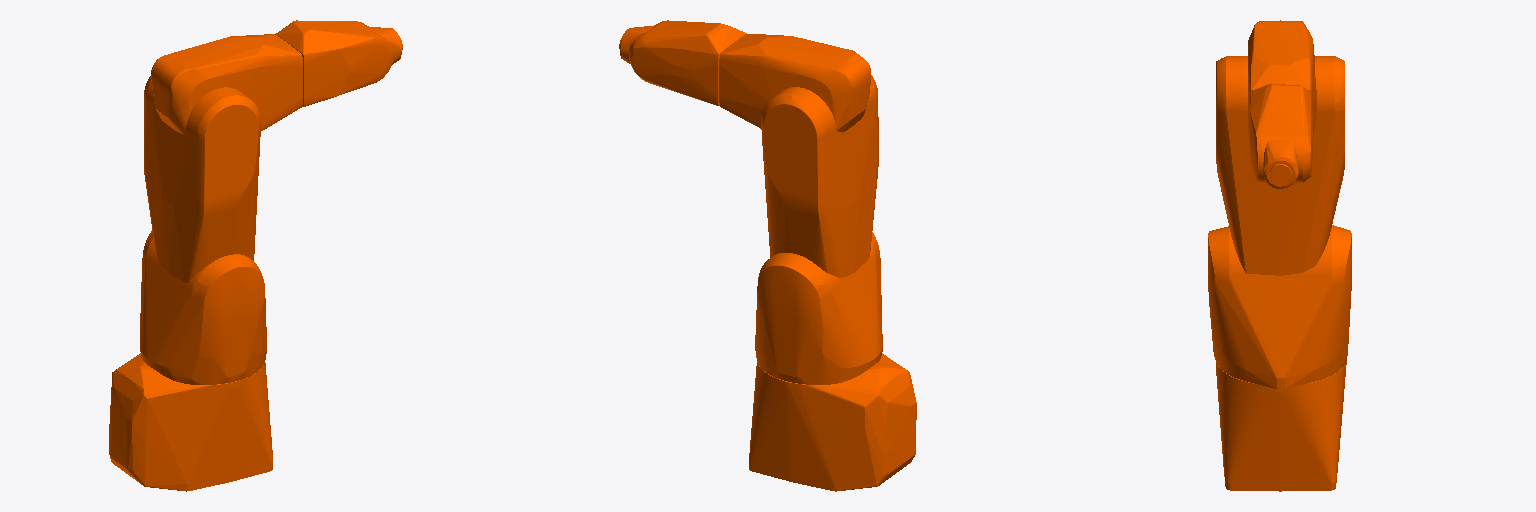
URDF robot description (abb_irb1200):
<?xml version="1.0" ?>
<!-- =================================================================================== -->
<!-- |    This document was autogenerated by xacro from irb1200.xacro                  | -->
<!-- |    EDITING THIS FILE BY HAND IS NOT RECOMMENDED                                 | -->
<!-- =================================================================================== -->
<robot name="abb_irb1200" xmlns:xacro="http://ros.org/wiki/xacro">
  <!-- Links below are from axis of one link the next link (joint offsets). This is due the stl export with the base of the robot as the origin-->
  <!-- link list -->
  <link name="base_link">
    <visual>
      <origin rpy="0 0 0" xyz="0 0 0"/>
      <geometry>
        <mesh filename="package://abb_irb1200_support/meshes/irb1200/visual/base_link.stl"/>
      </geometry>
      <material name="abb_orange">
        <color rgba="1 0.43 0 1"/>
      </material>
    </visual>
    <collision>
      <geometry>
        <mesh filename="package://abb_irb1200_support/meshes/irb1200/collision/base_link.stl"/>
      </geometry>
      <material name="yellow">
        <color rgba="0 1 1 1"/>
      </material>
    </collision>
  </link>
  <link name="link_1">
    <visual>
      <origin rpy="0 0 0" xyz="-0 -0 -0.219"/>
      <geometry>
        <mesh filename="package://abb_irb1200_support/meshes/irb1200/visual/link_1.stl"/>
      </geometry>
      <material name="abb_orange"/>
    </visual>
    <collision>
      <origin rpy="0 0 0" xyz="-0 -0 -0.219"/>
      <geometry>
        <mesh filename="package://abb_irb1200_support/meshes/irb1200/collision/link_1.stl"/>
      </geometry>
      <material name="yellow"/>
    </collision>
  </link>
  <link name="link_2">
    <visual>
      <origin rpy="0 0 0" xyz="                 -0.0                  -0.0                   -0.3991"/>
      <geometry>
        <mesh filename="package://abb_irb1200_support/meshes/irb1200/visual/link_2.stl"/>
      </geometry>
      <material name="abb_orange"/>
    </visual>
    <collision>
      <origin rpy="0 0 0" xyz="                 -0.0                  -0.0                   -0.3991"/>
      <geometry>
        <mesh filename="package://abb_irb1200_support/meshes/irb1200/collision/link_2.stl"/>
      </geometry>
      <material name="yellow"/>
    </collision>
  </link>
  <link name="link_3">
    <visual>
      <origin rpy="0 0 0" xyz="                 -0.0                  -0.0                  -0.7491"/>
      <geometry>
        <mesh filename="package://abb_irb1200_support/meshes/irb1200/visual/link_3.stl"/>
      </geometry>
      <material name="abb_orange"/>
    </visual>
    <collision>
      <origin rpy="0 0 0" xyz="                 -0.0                  -0.0                  -0.7491"/>
      <geometry>
        <mesh filename="package://abb_irb1200_support/meshes/irb1200/collision/link_3.stl"/>
      </geometry>
      <material name="yellow"/>
    </collision>
  </link>
  <link name="link_4">
    <visual>
      <origin rpy="0 0 0" xyz="                 -0.1885 -0.0 -0.7911"/>
      <geometry>
        <mesh filename="package://abb_irb1200_support/meshes/irb1200/visual/link_4.stl"/>
      </geometry>
      <material name="abb_orange"/>
    </visual>
    <collision>
      <origin rpy="0 0 0" xyz="                 -0.1885 -0.0 -0.7911"/>
      <geometry>
        <mesh filename="package://abb_irb1200_support/meshes/irb1200/collision/link_4.stl"/>
      </geometry>
      <material name="yellow"/>
    </collision>
  </link>
  <link name="link_5">
    <visual>
      <origin rpy="0 0 0" xyz="                 -0.344 -0.0 -0.7911"/>
      <geometry>
        <mesh filename="package://abb_irb1200_support/meshes/irb1200/visual/link_5.stl"/>
      </geometry>
      <material name="abb_orange"/>
    </visual>
    <collision>
      <origin rpy="0 0 0" xyz="                 -0.344 -0.0 -0.7911"/>
      <geometry>
        <mesh filename="package://abb_irb1200_support/meshes/irb1200/collision/link_5.stl"/>
      </geometry>
      <material name="yellow"/>
    </collision>
  </link>
  <link name="link_6">
    <visual>
      <origin rpy="0 0 0" xyz="                 -0.421 -0.0 -0.7911"/>
      <geometry>
        <mesh filename="package://abb_irb1200_support/meshes/irb1200/visual/link_6.stl"/>
      </geometry>
      <material name="abb_orange"/>
    </visual>
    <collision>
      <origin rpy="0 0 0" xyz="                 -0.421 -0.0 -0.7911"/>
      <geometry>
        <mesh filename="package://abb_irb1200_support/meshes/irb1200/collision/link_6.stl"/>
      </geometry>
      <material name="yellow"/>
    </collision>
  </link>
  <link name="tool0"/>
  <!-- end of link list -->
  <!-- joint list -->
  <joint name="joint_1" type="revolute">
    <origin rpy="0 0 0" xyz="0 0 0.219"/>
    <parent link="base_link"/>
    <child link="link_1"/>
    <axis xyz="0 0 1"/>
    <limit effort="0" lower="-2.96705973" upper="2.96705973" velocity="5.0265"/>
  </joint>
  <joint name="joint_2" type="revolute">
    <origin rpy="0 0 0" xyz="0 0 0.1801"/>
    <parent link="link_1"/>
    <child link="link_2"/>
    <axis xyz="0 1 0"/>
    <limit effort="0" lower="-1.74533" upper="2.35619" velocity="4.18879"/>
  </joint>
  <joint name="joint_3" type="revolute">
    <origin rpy="0 0 0" xyz="0 0 0.35"/>
    <parent link="link_2"/>
    <child link="link_3"/>
    <axis xyz="0 1 0"/>
    <limit effort="0" lower="-3.49066" upper="1.22173" velocity="5.2360"/>
  </joint>
  <joint name="joint_4" type="revolute">
    <origin rpy="0 0 0" xyz="0.1885 0 0.042"/>
    <parent link="link_3"/>
    <child link="link_4"/>
    <axis xyz="1 0 0"/>
    <limit effort="0" lower="-4.71239" upper="4.71239" velocity="6.98131"/>
  </joint>
  <joint name="joint_5" type="revolute">
    <origin rpy="0 0 0" xyz="0.1555 0 0"/>
    <parent link="link_4"/>
    <child link="link_5"/>
    <axis xyz="0 1 0"/>
    <limit effort="0" lower="-2.26893" upper="2.26893" velocity="7.0686"/>
  </joint>
  <joint name="joint_6" type="revolute">
    <origin rpy="0 0 0" xyz="0.077 0 0"/>
    <parent link="link_5"/>
    <child link="link_6"/>
    <axis xyz="1 0 0"/>
    <limit effort="0" lower="-6.2832" upper="6.2832" velocity="10.4720"/>
  </joint>
  <joint name="joint_6-tool0" type="fixed">
    <parent link="link_6"/>
    <child link="tool0"/>
    <origin rpy="0 1.57079632679 0" xyz="0 0 0"/>
  </joint>
  <!-- end of joint list -->
  <!-- ROS base_link to ABB World Coordinates transform -->
  <link name="base"/>
  <joint name="base_link-base" type="fixed">
    <origin rpy="0 0 0" xyz="0 0 0"/>
    <parent link="base_link"/>
    <child link="base"/>
  </joint>
</robot>

--- Render facts (derived) ---
3 views of the same robot in one strip: view 1: azimuth 30°, elevation 25°; view 2: azimuth 150°, elevation 25°; view 3: azimuth 270°, elevation 25° (orthographic).
Model abb_irb1200 with 9 links and 8 joints (6 revolute, 2 fixed), rooted at base_link, posed all joints at 0.
Links seen in each view (by area): view 1: link_2, base_link, link_1, link_3, link_4; view 2: link_2, base_link, link_1, link_3, link_4; view 3: link_1, link_2, base_link, link_4, link_3, link_5.
Boxes of the visible links, x1,y1,x2,y2 form: link_2: [144, 76, 260, 282]; base_link: [109, 353, 272, 491]; link_1: [140, 230, 266, 384]; link_3: [151, 34, 302, 133]; link_4: [275, 20, 393, 106]; link_2: [761, 75, 878, 277]; base_link: [749, 353, 916, 491]; link_1: [755, 232, 882, 384]; link_3: [719, 34, 870, 132]; link_4: [629, 20, 746, 105]; link_1: [1208, 225, 1351, 388]; link_2: [1216, 56, 1344, 275]; base_link: [1216, 359, 1346, 491]; link_4: [1249, 83, 1312, 182]; link_3: [1248, 20, 1316, 135]; link_5: [1263, 140, 1298, 188].
Size in the robot's own frame: 0.6256 by 0.2636 by 0.875 metres.
Meshes: 7 distinct files referenced, 7 mesh visuals loaded (7 binary STL).